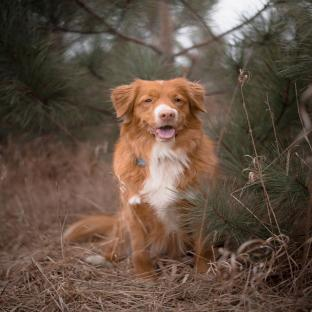Animal: (65, 78, 218, 280)
